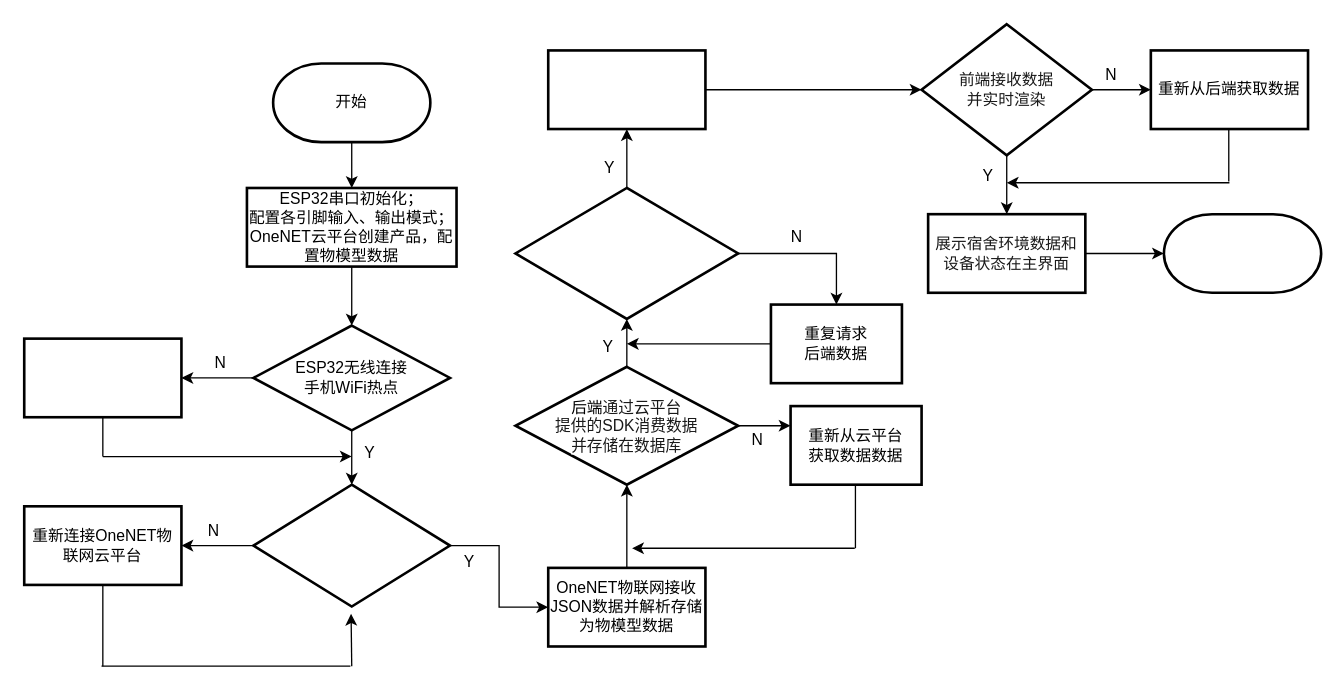
The diagram is 1344 pixels wide and 700 high, and some of its shapes have lost their labels. The centre of each missing label's shape, as x and y in pixels:
"ESP32连接OneNET 物联网云平台" belongs at (351,545).
"前端 以 RestfulAPI 的 方式发送 HTTP 请求 到后端请求数据" belongs at (626,253).
"后端响应前端请求，返回数据" belongs at (626,89).
"结束" belongs at (1242,252).
"重连WiFi热点" belongs at (102,377).
